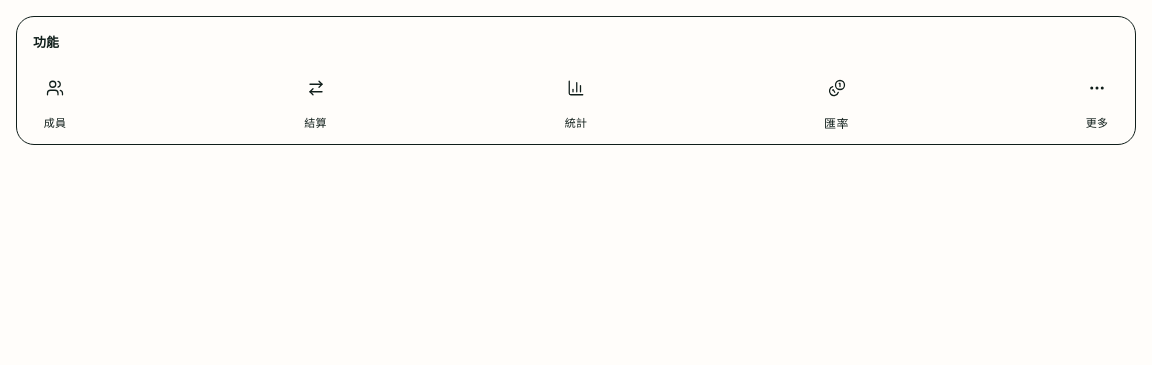
Test: FeatureGrid › expands and collapses the secondary features
Click the button with aria-label "更多功能".
click(1097, 97)  # box [1071,64,1123,130]
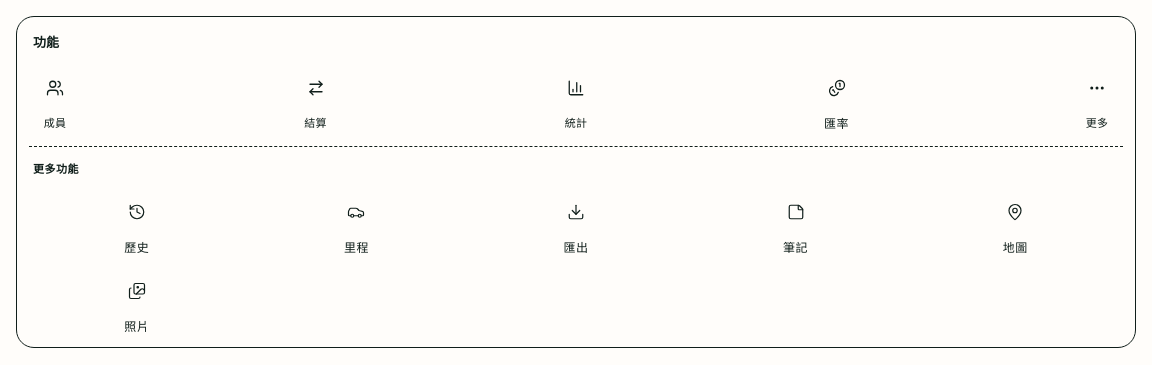
Click the button with aria-label "更多功能".
click(1097, 97)  # box [1071,64,1123,130]
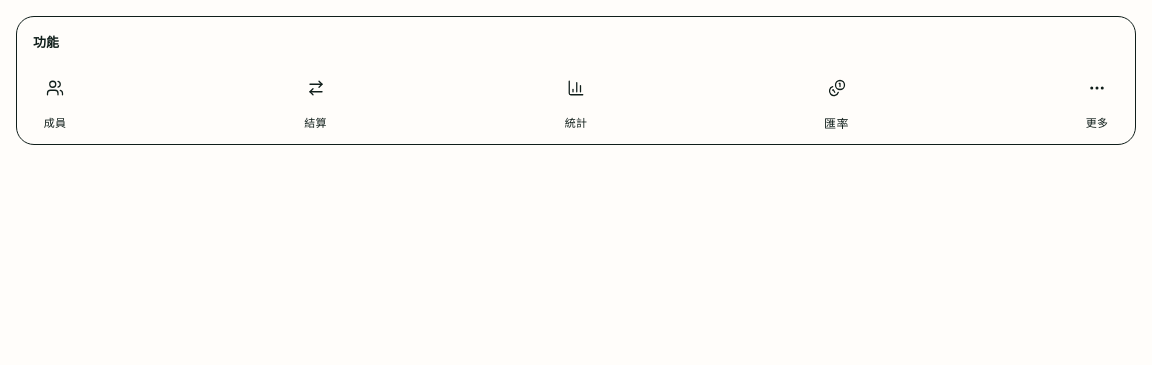
Expected: the link "歷史" is gone
Expected: the link "里程" is gone
Expected: the link "匯出" is gone
